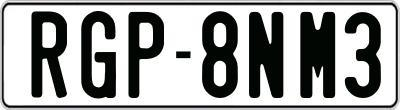3: (343, 12, 385, 98)
8: (201, 8, 240, 100)
G: (81, 10, 119, 101)
M: (297, 10, 332, 100)
N: (249, 9, 284, 100)
P: (128, 10, 165, 98)
R: (28, 8, 66, 99)
